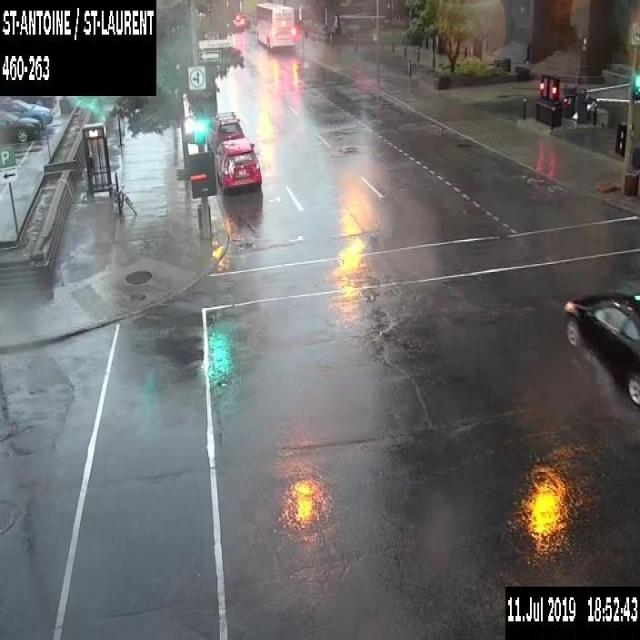bus: (255, 1, 295, 49)
vehicle: (563, 289, 639, 411), (215, 137, 261, 192), (206, 112, 244, 155), (0, 97, 52, 128), (0, 110, 42, 142), (233, 13, 243, 31)
